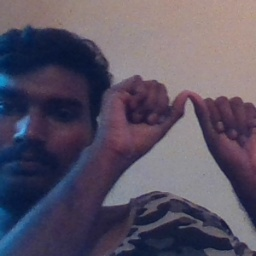A: (137, 73, 245, 158)
